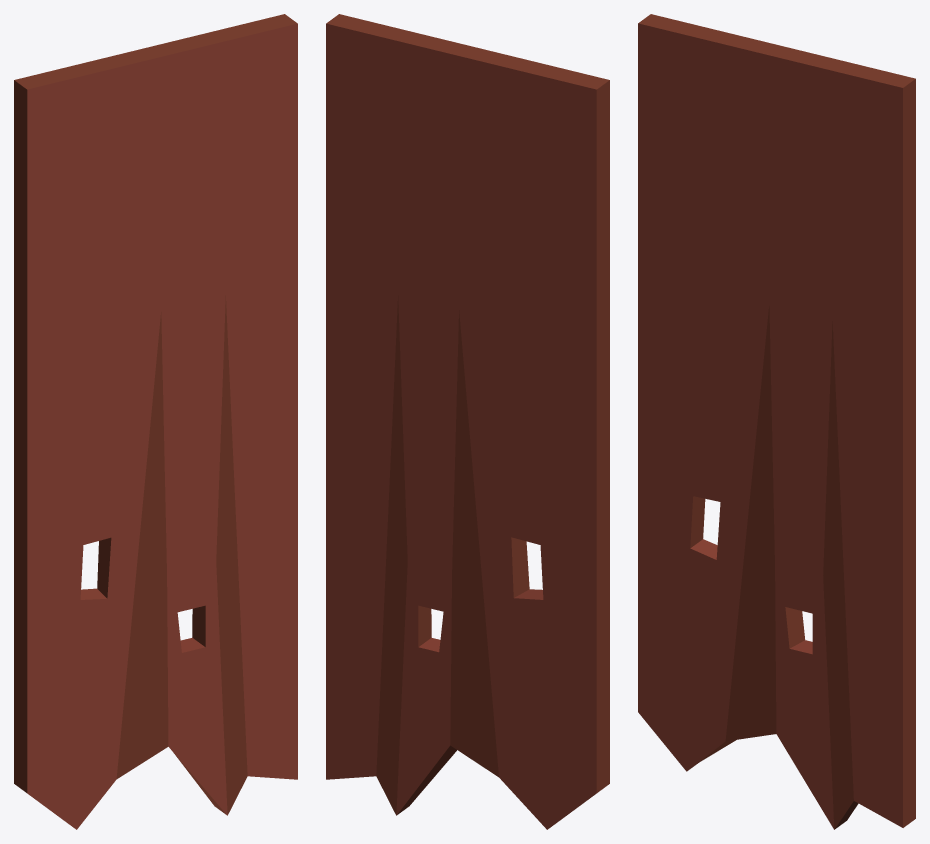
The model's file is ST_Prop_Banner_02.fbx.
The picture shows the model from 3 angles, left to right: view 1: azimuth 30°, elevation 25°; view 2: azimuth 150°, elevation 25°; view 3: azimuth 330°, elevation 25°; orthographic projection. The views are drawn at different scales.
Visible parts, largest first — view 1: ST_Prop_Banner_02; view 2: ST_Prop_Banner_02; view 3: ST_Prop_Banner_02.
Boxes of the visible parts, x1=… form: ST_Prop_Banner_02: x1=14, y1=14, x2=297, y2=829; ST_Prop_Banner_02: x1=326, y1=14, x2=609, y2=829; ST_Prop_Banner_02: x1=638, y1=14, x2=915, y2=829.
Size of the model in its own units: 1.99 by 5.44 by 0.1663.
